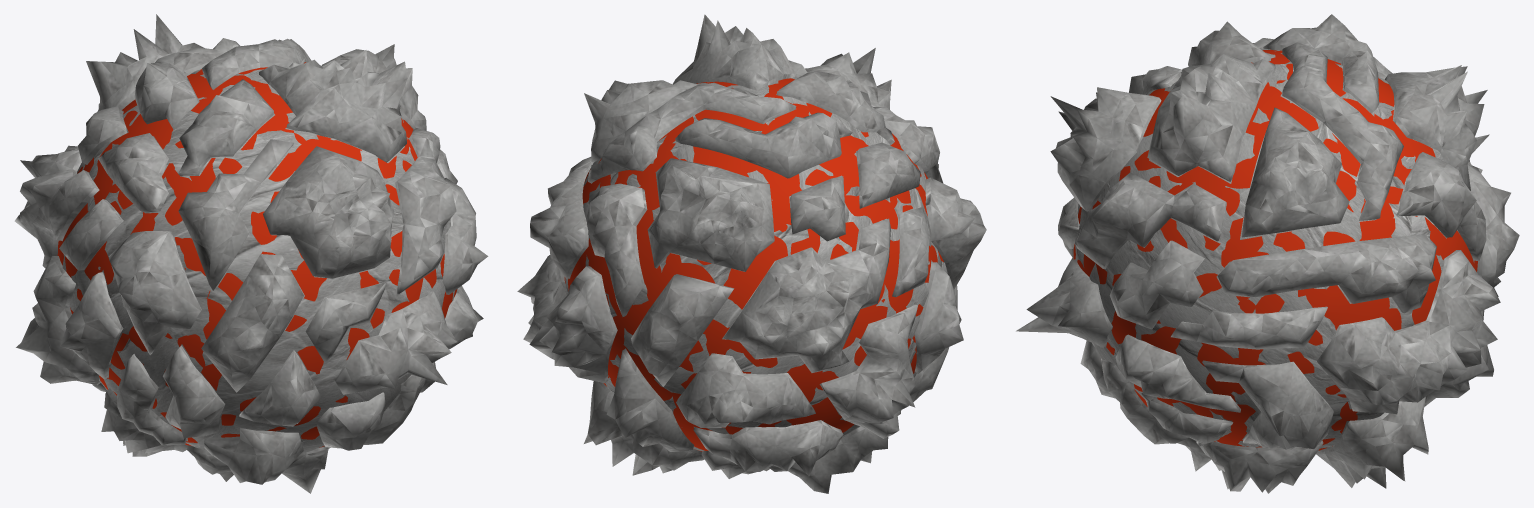
Rendered from Mountain_Planet_02.fbx.
3 views of the same model, side by side, from view 1: azimuth 30°, elevation 25°; view 2: azimuth 150°, elevation 25°; view 3: azimuth 270°, elevation 25° (orthographic). The views are drawn at different scales.
Visible parts, largest first — view 1: rocks_full (2), grass (2), path; view 2: rocks_full (2), path, grass (2); view 3: rocks_full (2), path, grass (2).
Part boxes in pixels (<box>): rocks_full (2): <box>14,14,488,493</box>; grass (2): <box>62,61,454,453</box>; path: <box>57,62,457,447</box>; rocks_full (2): <box>517,14,986,493</box>; path: <box>564,78,943,451</box>; grass (2): <box>565,77,947,451</box>; rocks_full (2): <box>1016,14,1519,493</box>; path: <box>1073,49,1477,450</box>; grass (2): <box>1072,48,1474,453</box>.
Bounding box in the file's own units: 3021 × 3077 × 3209.
Materials: 3 (2 with a texture image).
